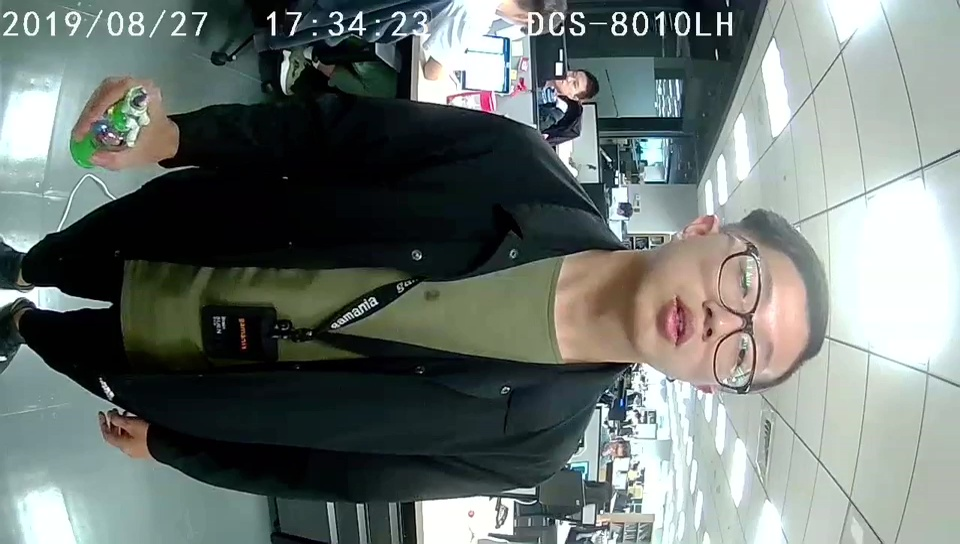buzz: (68, 86, 150, 171)
